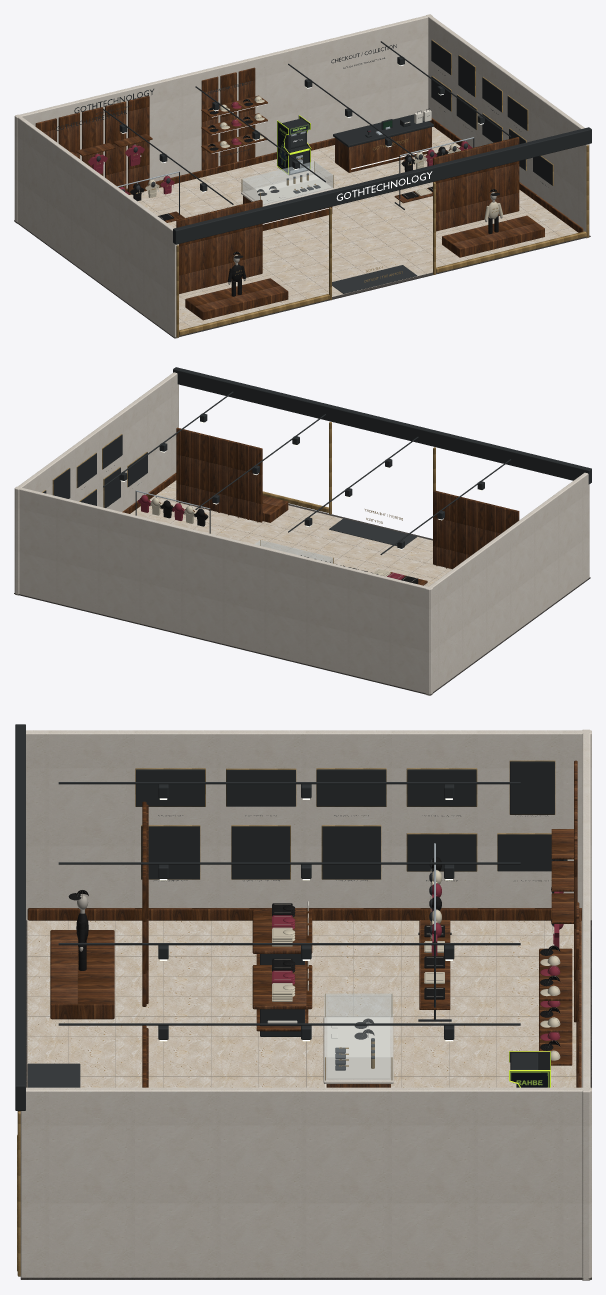
The model's file is GothTechnology-Store.glb.
3 renders of one model, top to bottom at view 1: azimuth 30°, elevation 25°; view 2: azimuth 150°, elevation 25°; view 3: azimuth 270°, elevation 25°, orthographic. The views are drawn at different scales.
Parts seen in each view (by area): view 1: Higgsfield gallery plaster, Higgsfield walnut retail furniture, Higgsfield porcelain retail floor, Powder coated graphite, Higgsfield satin brass, Retail clear display glazing, Rubber / acoustic felt, Higgsfield black cotton garments, Retail warm greige plaster, Warm cream price tags and packaging, Higgsfield charcoal microcement, Oxblood cotton (+4 smaller); view 2: Higgsfield gallery plaster, Higgsfield walnut retail furniture, Powder coated graphite, Higgsfield porcelain retail floor, Higgsfield charcoal microcement, Higgsfield satin brass, Rubber / acoustic felt, Retail warm greige plaster, Retail clear display glazing, Higgsfield black cotton garments; view 3: Higgsfield gallery plaster, Higgsfield porcelain retail floor, Powder coated graphite, Higgsfield walnut retail furniture, Retail clear display glazing, Retail warm greige plaster, Higgsfield satin brass, Warm cream price tags and packaging, Higgsfield black cotton garments, Higgsfield charcoal microcement, Bone cotton, Rubber / acoustic felt (+1 smaller).
Boxes of the visible parts, box(x1,y1,x2,y2) form: Higgsfield gallery plaster: box(14, 14, 589, 338); Higgsfield walnut retail furniture: box(35, 67, 583, 320); Higgsfield porcelain retail floor: box(129, 127, 578, 330); Powder coated graphite: box(56, 40, 591, 244); Higgsfield satin brass: box(97, 39, 588, 337); Retail clear display glazing: box(242, 161, 333, 204); Rubber / acoustic felt: box(96, 133, 467, 293); Higgsfield black cotton garments: box(130, 99, 499, 296); Retail warm greige plaster: box(139, 97, 568, 326); Warm cream price tags and packaging: box(103, 109, 431, 204); Higgsfield charcoal microcement: box(14, 220, 590, 338); Oxblood cotton: box(88, 101, 472, 194); Higgsfield gallery plaster: box(14, 372, 589, 695); Higgsfield walnut retail furniture: box(122, 427, 519, 585); Powder coated graphite: box(43, 367, 591, 574); Higgsfield porcelain retail floor: box(130, 480, 451, 586); Higgsfield charcoal microcement: box(14, 503, 590, 695); Higgsfield satin brass: box(42, 422, 435, 563); Rubber / acoustic felt: box(329, 518, 417, 545); Retail warm greige plaster: box(147, 487, 450, 585); Retail clear display glazing: box(255, 540, 332, 563); Higgsfield black cotton garments: box(160, 500, 418, 583); Higgsfield gallery plaster: box(20, 729, 591, 1280); Higgsfield porcelain retail floor: box(27, 920, 581, 1087); Powder coated graphite: box(15, 724, 567, 1110); Higgsfield walnut retail furniture: box(27, 760, 581, 1087); Retail clear display glazing: box(324, 993, 392, 1080); Retail warm greige plaster: box(28, 890, 575, 1087); Higgsfield satin brass: box(17, 760, 567, 1276); Warm cream price tags and packaging: box(267, 882, 430, 1078); Higgsfield black cotton garments: box(68, 857, 563, 1050); Higgsfield charcoal microcement: box(20, 920, 591, 1279); Bone cotton: box(272, 869, 560, 1060); Rubber / acoustic felt: box(27, 855, 553, 1087).
Bounding box in the file's own units: 18 × 4.58 × 12.14.
41 materials, 29 textured.
